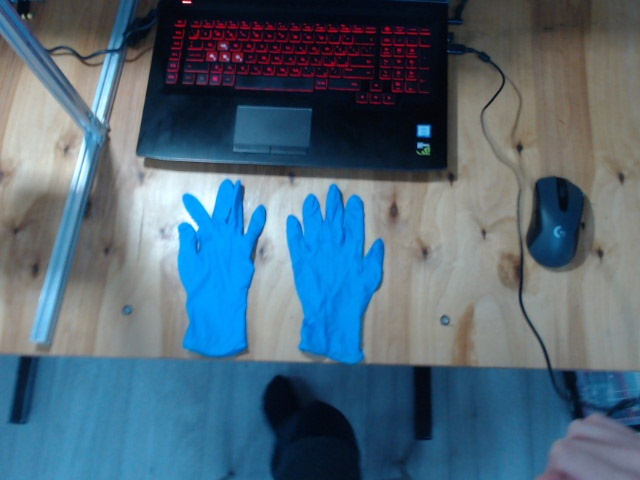medical_glove: (286, 184, 384, 363), (175, 178, 266, 355)
